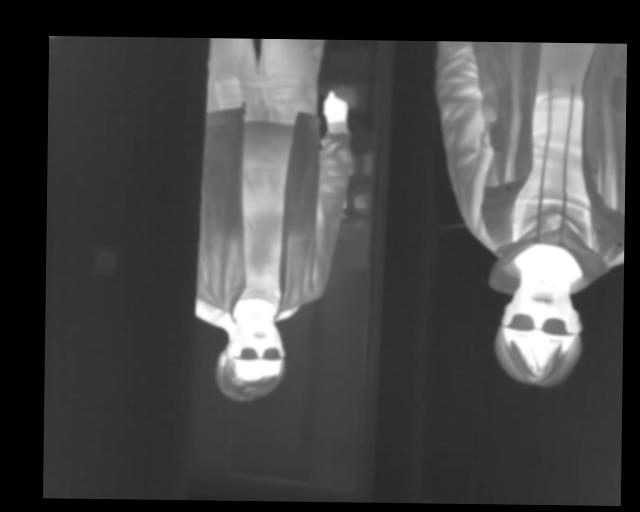face: (495, 275, 584, 389), (221, 315, 287, 399)
